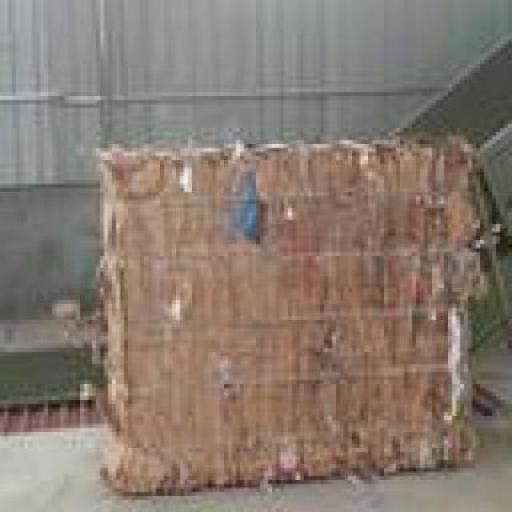cardboard: (100, 136, 476, 492)
